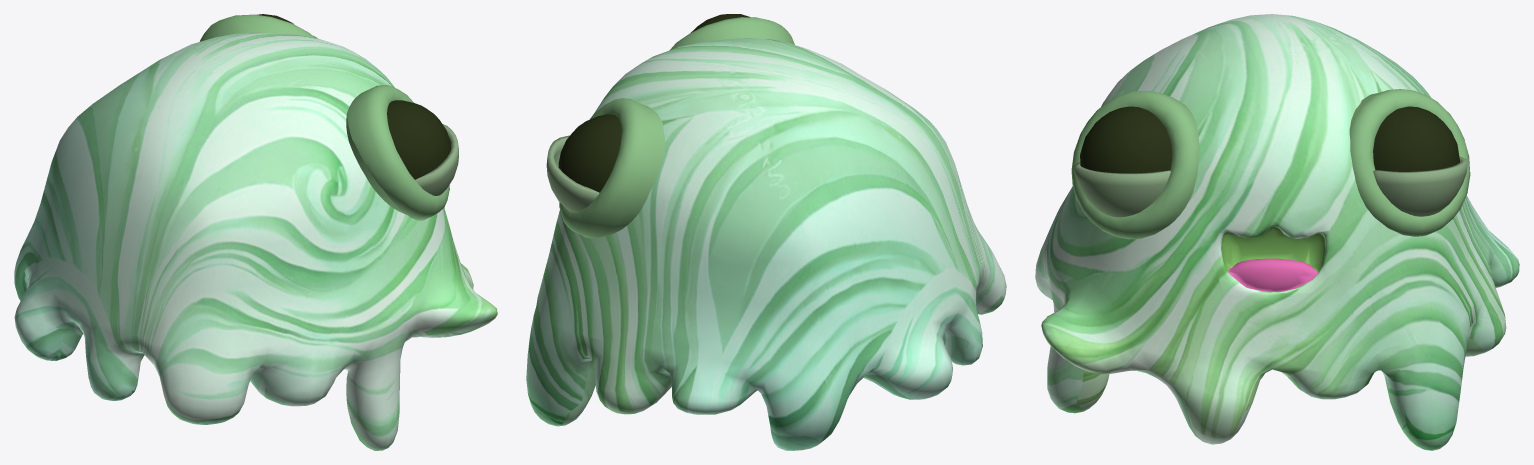
File: MinzeTexturiert.fbx
3 views of the same model, side by side, from view 1: azimuth 30°, elevation 25°; view 2: azimuth 150°, elevation 25°; view 3: azimuth 270°, elevation 25° (orthographic). The views are drawn at different scales.
Parts seen in each view (by area): view 1: Frog; view 2: Frog; view 3: Frog.
Part boxes in pixels (x1,y1,x2,y2): Frog: (14,14,497,450); Frog: (526,14,1006,450); Frog: (1035,14,1519,450).
Bounding box in the file's own units: 311 × 247 × 304.
